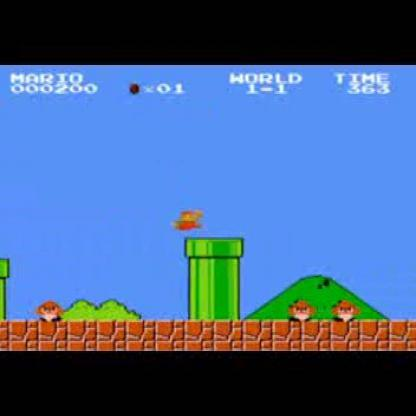Goomba: (330, 296, 360, 323), (289, 298, 317, 323), (34, 298, 64, 321)
